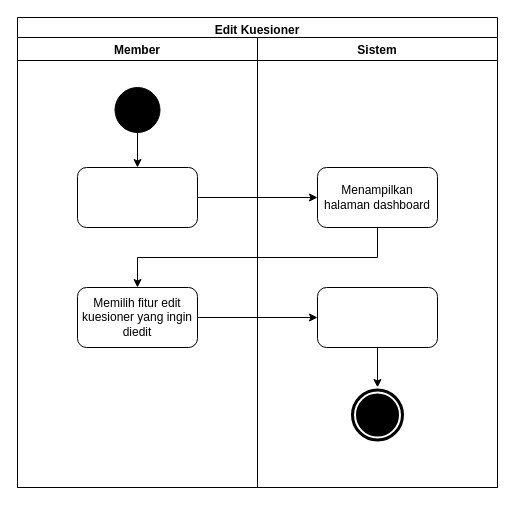
This 515x505 diagram has some shape labels left out. The centre of each missing label's shape, as x and y in pixels:
"Membuka halaman dashboard" goes at (137,197).
"Menampilkan halaman edit kuesioner" goes at (377,317).
